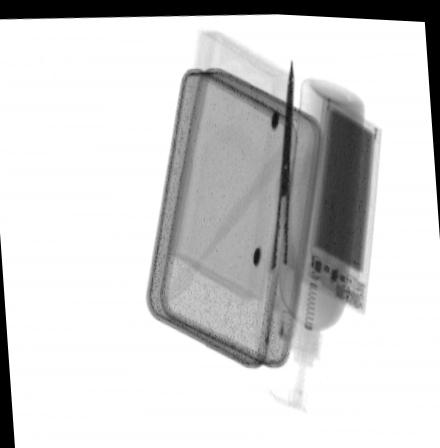Powerbank: (296, 80, 385, 311)
Scissors: (260, 50, 296, 280)
